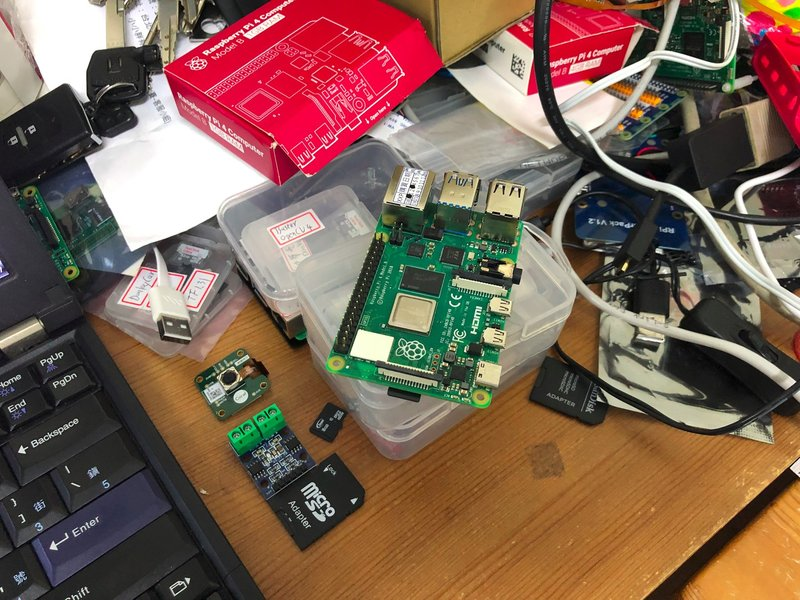pi: (318, 159, 531, 417)
